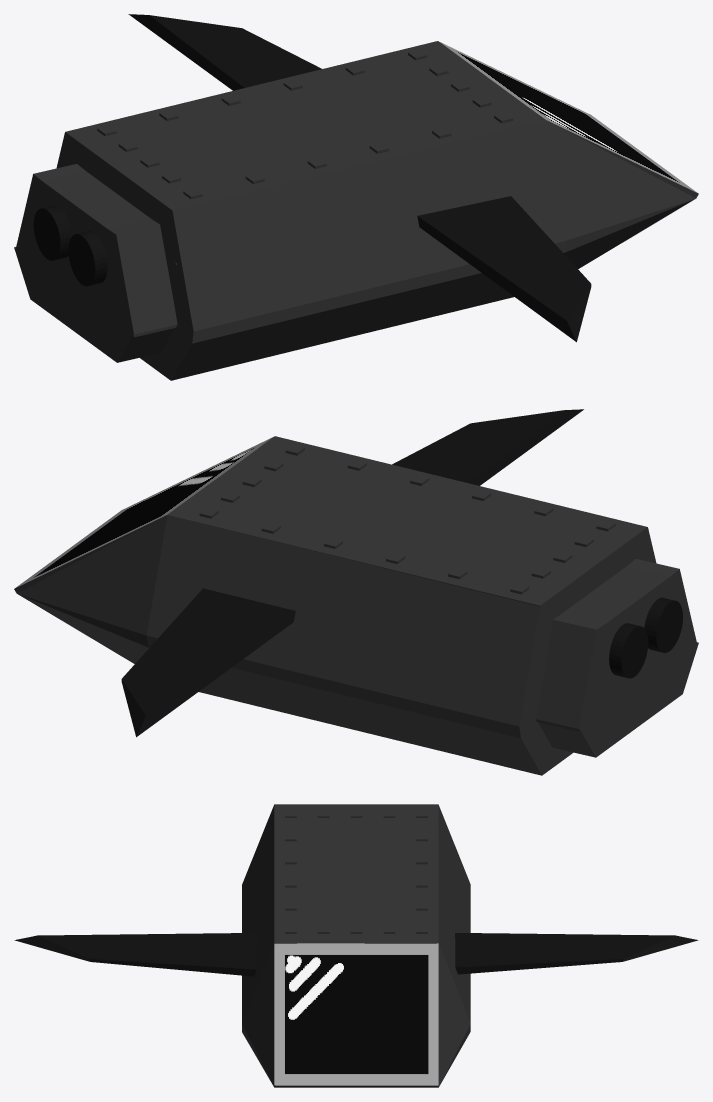
File: ship.glb
The picture shows the model from 3 angles, top to bottom: view 1: azimuth 30°, elevation 25°; view 2: azimuth 150°, elevation 25°; view 3: azimuth 270°, elevation 25°; orthographic projection. The views are drawn at different scales.
Visible parts, largest first — view 1: Ship; view 2: Ship; view 3: Ship.
Part boxes in pixels (x1=…): Ship: x1=14, y1=14, x2=698, y2=380; Ship: x1=14, y1=409, x2=698, y2=775; Ship: x1=14, y1=804, x2=698, y2=1087.
Bounding box in the file's own units: 12.5 × 3.53 × 16.67.
Materials: 1 (1 with a texture image).
